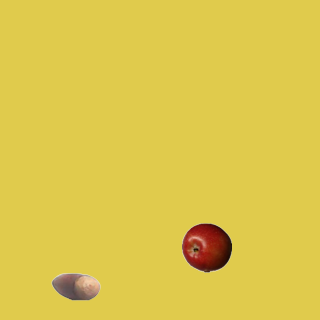Apple Braeburn: (181, 222, 231, 272)
Hazelnut: (50, 261, 100, 311)
